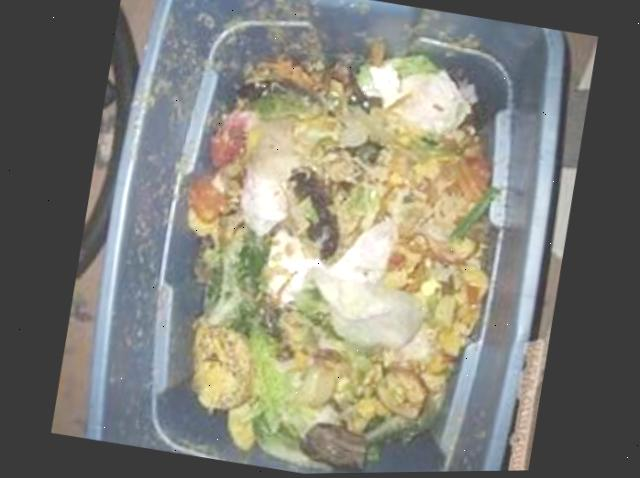Garbage: (182, 51, 495, 474)
Plastic_Bag: (309, 268, 422, 350)
